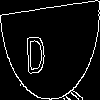D: (25, 25, 46, 74)
